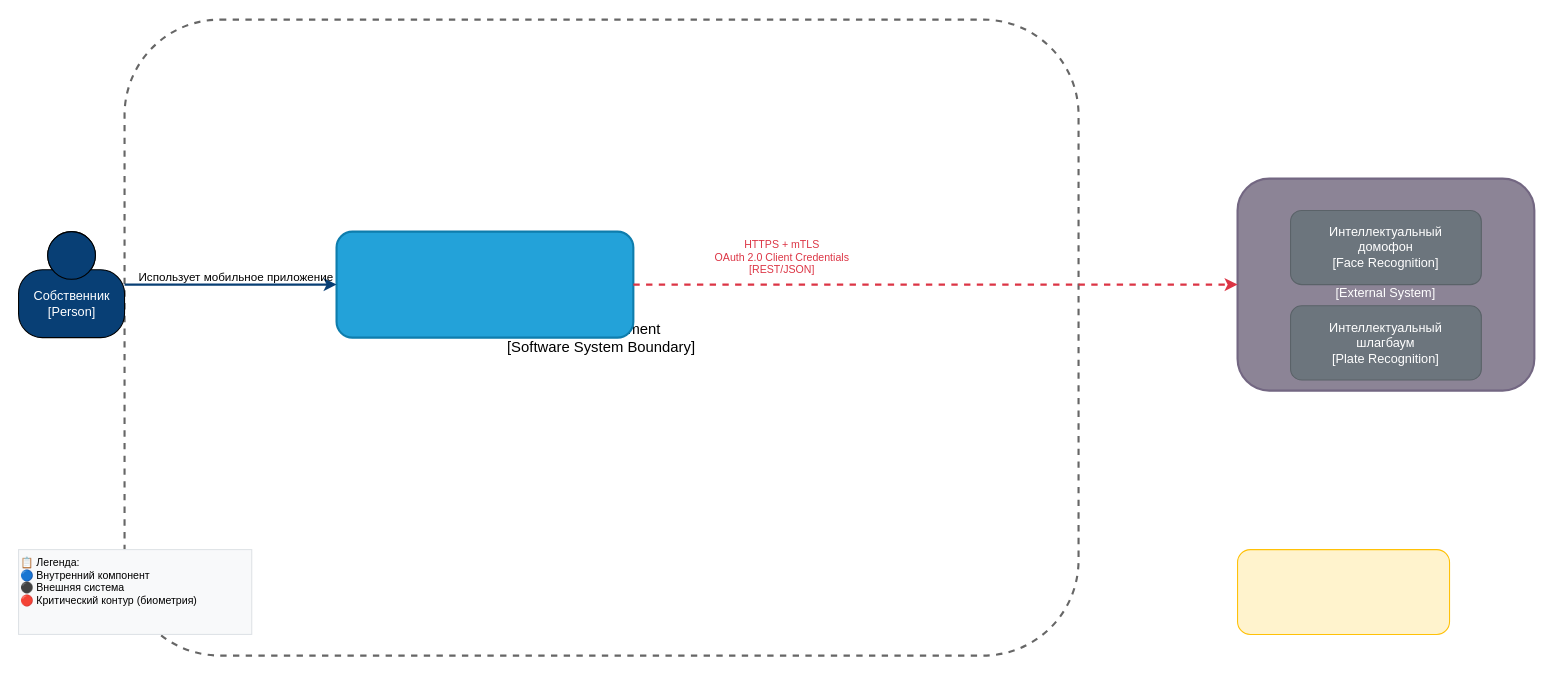
This 1554x674 diagram has some shape labels left out. Each missing label, with the centre of its shape:
"Витрина сервисов для собственников [Mobile App: iOS, Android]" belongs at point 484,284.
"🔐 Требования: • 152-ФЗ (биометрия) • ISO 27001 A.8.23 • mTLS + OAuth 2.0" belongs at point 1343,591.
